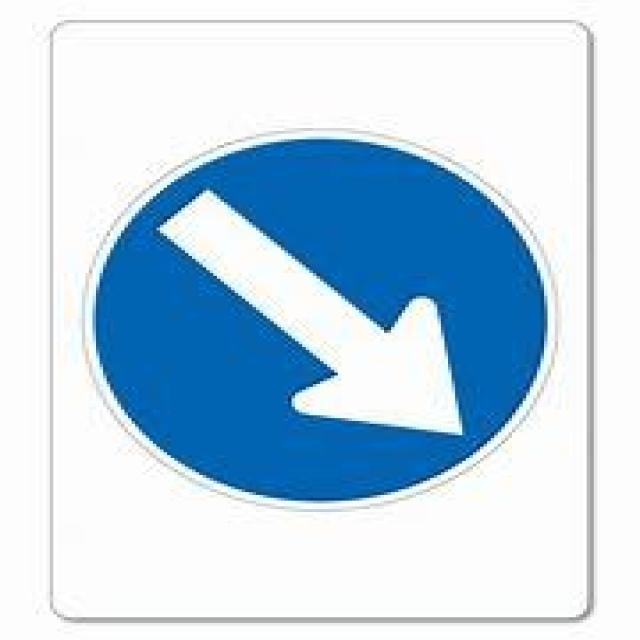compulsory_keep_left: (74, 117, 562, 514)
